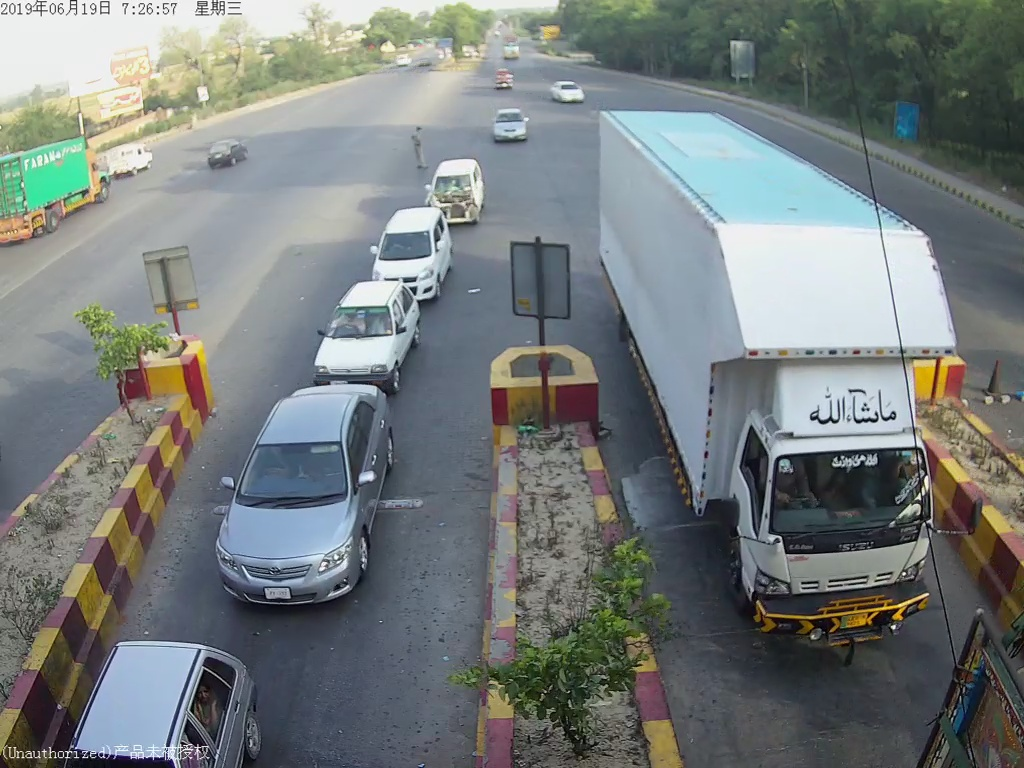Cat-1: (222, 386, 400, 609), (305, 284, 433, 376)
Cat-4: (602, 110, 955, 668)
